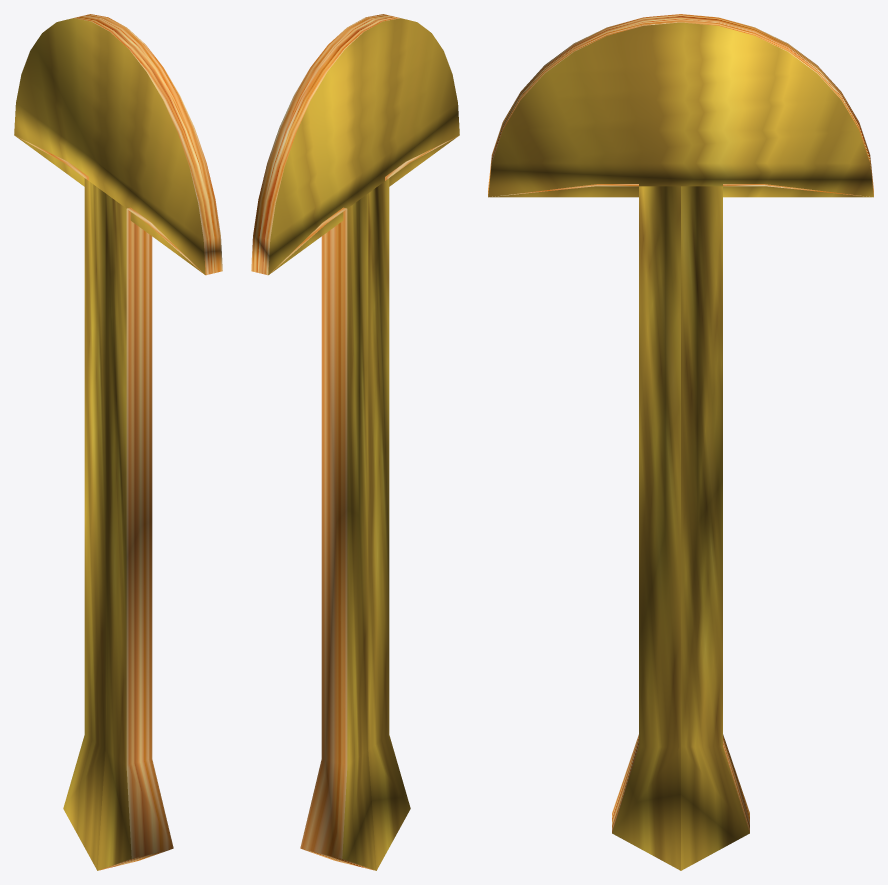
Rendered from moch_timu.dae.
The picture shows the model from 3 angles, left to right: view 1: azimuth 30°, elevation 25°; view 2: azimuth 150°, elevation 25°; view 3: azimuth 270°, elevation 25°; orthographic projection.
Visible parts, largest first — view 1: w_timu; view 2: w_timu; view 3: w_timu.
Part boxes in pixels (x1,y1,x2,y2): w_timu: (14,14,222,870); w_timu: (251,14,459,870); w_timu: (488,14,873,870).
Size of the model in its own units: 0.0871 by 0.6857 by 1.65.
